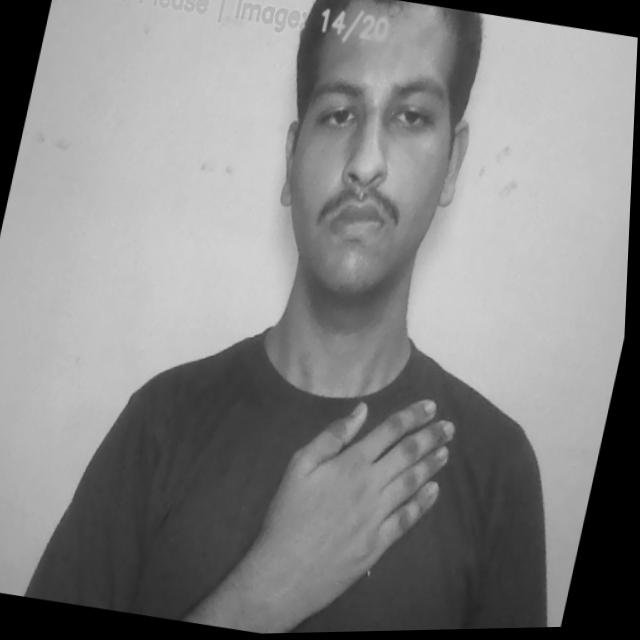Please: (209, 370, 478, 636)
